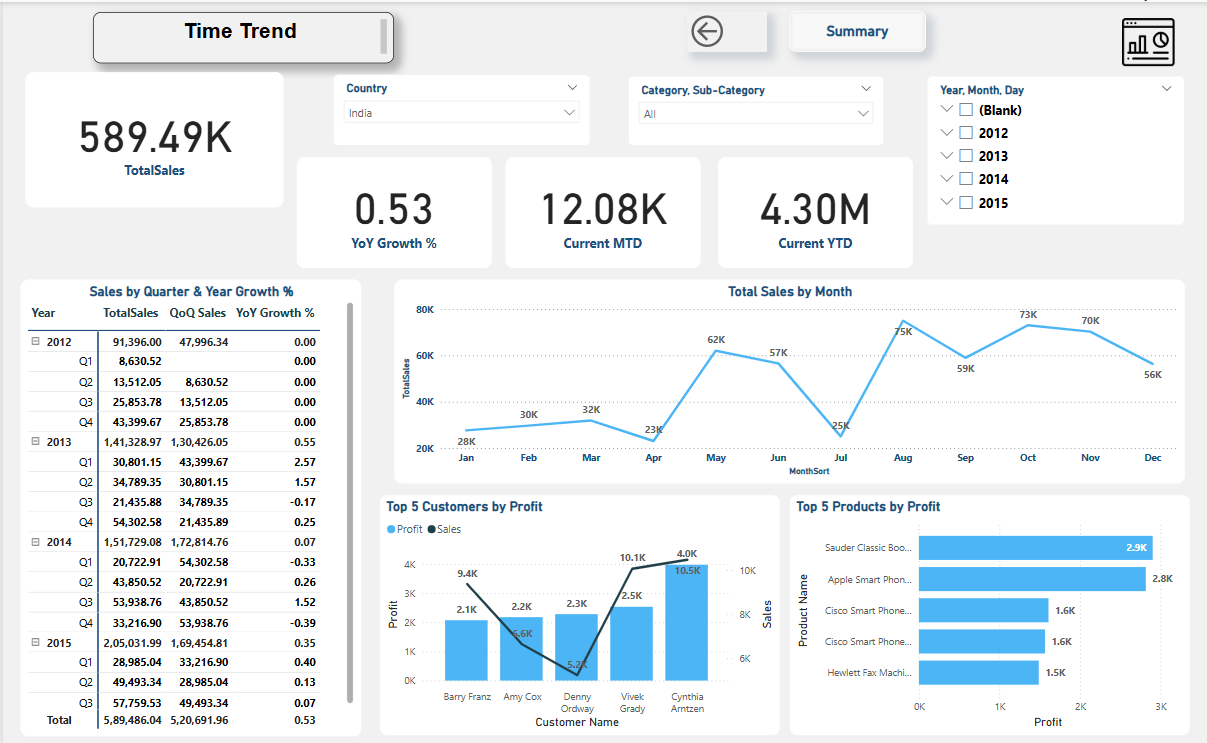

Layout of this report page (visuals, bound fields, positions):
{"tool":"powerbi","page":{"name":"Trends","canvas":[1500,930],"ordinal":2},"visuals":[{"type":"textbox","box":[112.2,12.5,375.6,63.9],"z":0},{"type":"image","box":[1382.9,12,91,75],"z":1000},{"type":"slicer","fields":{"Values":["Orders.Country"]},"box":[411.4,90.4,321,88.8],"z":2000},{"type":"slicer","fields":{"Values":["Orders.Category","Orders.Sub-Category"]},"box":[779.2,91.9,319.5,87.3],"z":3000},{"type":"slicer","fields":{"Values":["Calendar.Year","Calendar.MonthSort","Calendar.Day"]},"box":[1151.4,91.7,321.6,186.5],"z":4000},{"type":"card","fields":{"Values":["Orders.TotalSales"]},"box":[27.3,86.8,321.6,168.8],"z":5000},{"type":"card","fields":{"Values":["Calendar.Current MTD"]},"box":[627.1,193,242.8,138.3],"z":6000},{"type":"card","fields":{"Values":["Calendar.Current YTD"]},"box":[890.9,193,242.8,138.3],"z":7000},{"type":"card","fields":{"Values":["Calendar.YoY Growth %"]},"box":[366.6,193,242.8,138.3],"z":8000},{"type":"lineChart","title":"Total Sales by Month","fields":{"Category":["Calendar.MonthSort"],"Y":["Orders.TotalSales"]},"box":[487.2,345.7,985.7,254.1],"z":9000},{"type":"pivotTable","title":"Sales by Quarter & Year Growth %","fields":{"Rows":["Calendar.Year","Calendar.Quarter"],"Values":["Orders.TotalSales","Calendar.QoQ Sales","Calendar.YoY Growth %"]},"box":[22.5,345.7,424.5,569.3],"z":10000},{"type":"lineClusteredColumnComboChart","title":"Top 5 Customers by Profit","fields":{"Category":["Orders.Customer Name"],"Y":["Orders.Profit"],"Y2":["Orders.Sales"]},"box":[469.6,614.3,500,300.7],"z":11000},{"type":"clusteredBarChart","title":"Top 5 Products by Profit","fields":{"Category":["Orders.Product Name"],"Y":["Orders.Profit"]},"box":[980.9,614.3,500,300.7],"z":12000},{"type":"actionButton","box":[852.3,11.3,100,51],"z":13000},{"type":"actionButton","box":[980.9,11.3,170,51],"z":14000}]}

Visuals, with their boxes in screenshot pixels (x1, y1, x2, y2), scaled from the page's 1500x930 canvas onto the 1207x743 screenshot:
textbox: 90, 10, 393, 61
image: 1113, 10, 1186, 70
slicer - Orders.Country: 331, 72, 589, 143
slicer - Orders.Category x Orders.Sub-Category: 627, 73, 884, 143
slicer - Calendar.Year x Calendar.MonthSort: 926, 73, 1185, 222
card - Orders.TotalSales: 22, 69, 281, 204
card - Calendar.Current MTD: 505, 154, 700, 265
card - Calendar.Current YTD: 717, 154, 912, 265
card - Calendar.YoY Growth %: 295, 154, 490, 265
"Total Sales by Month" lineChart: 392, 276, 1185, 479
"Sales by Quarter & Year Growth %" pivotTable: 18, 276, 360, 731
"Top 5 Customers by Profit" lineClusteredColumnComboChart: 378, 491, 780, 731
"Top 5 Products by Profit" clusteredBarChart: 789, 491, 1192, 731
actionButton: 686, 9, 766, 50
actionButton: 789, 9, 926, 50
